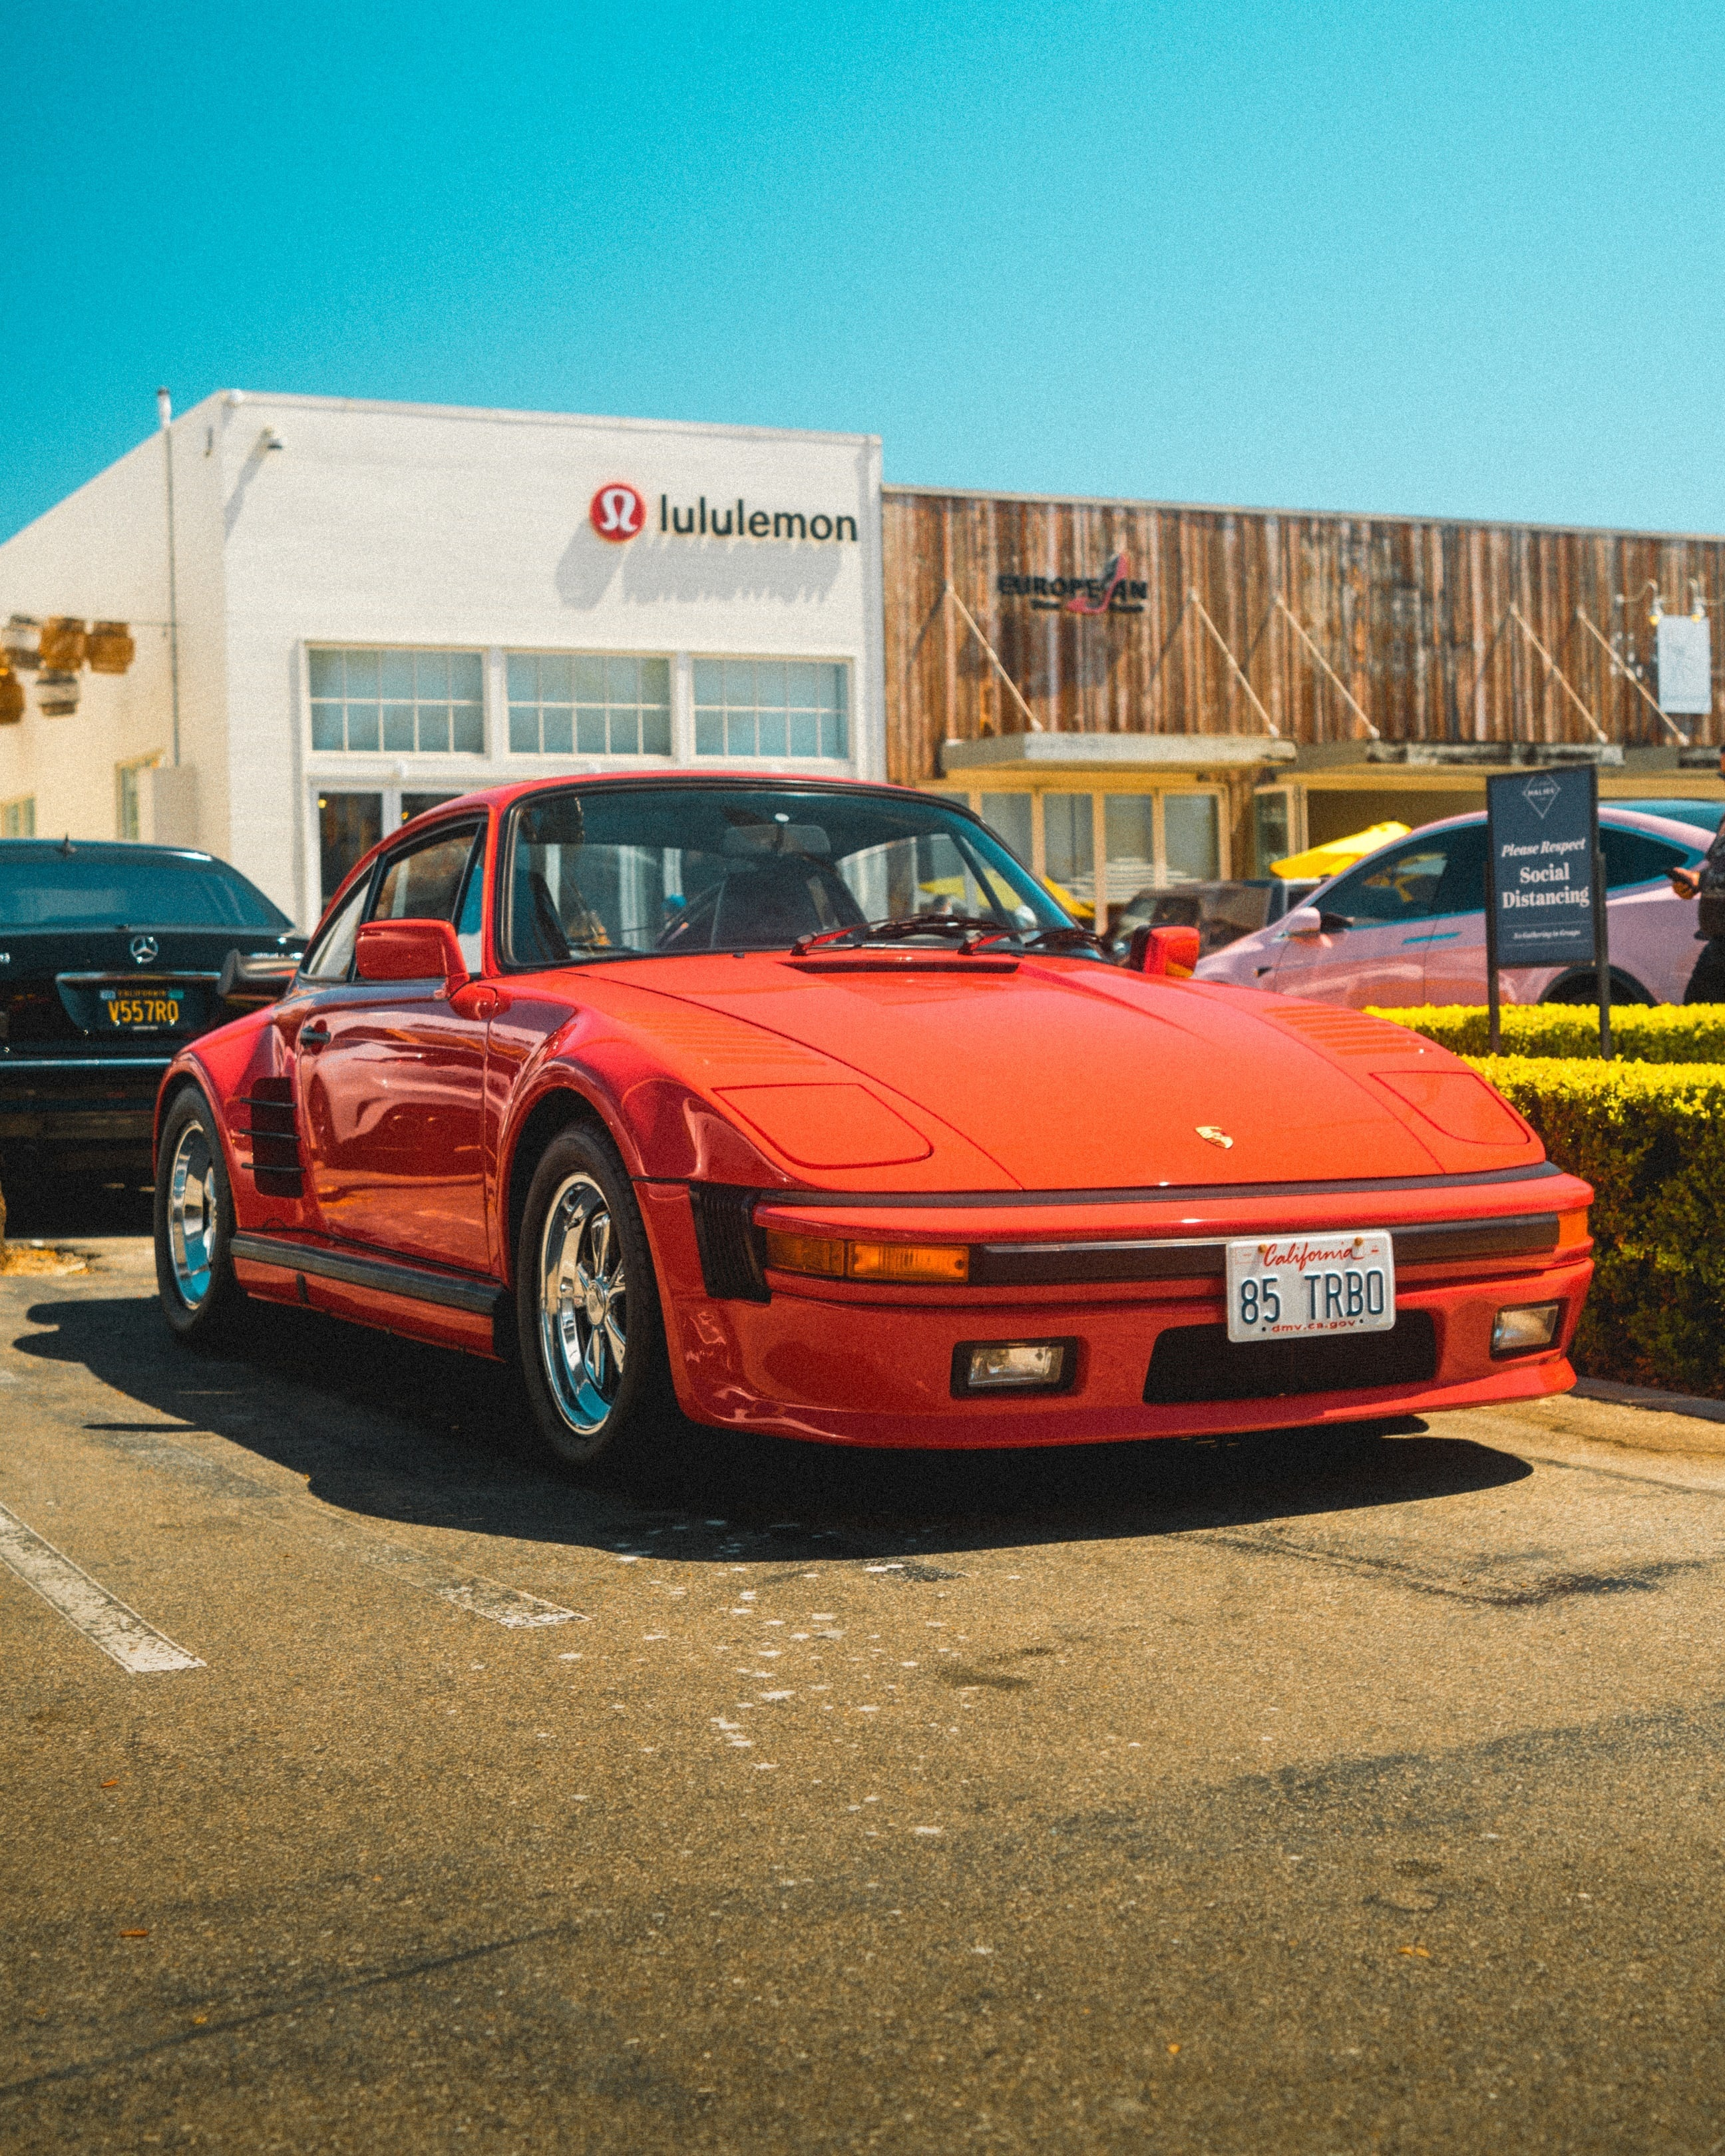plaka: (1218, 1231, 1404, 1345)
